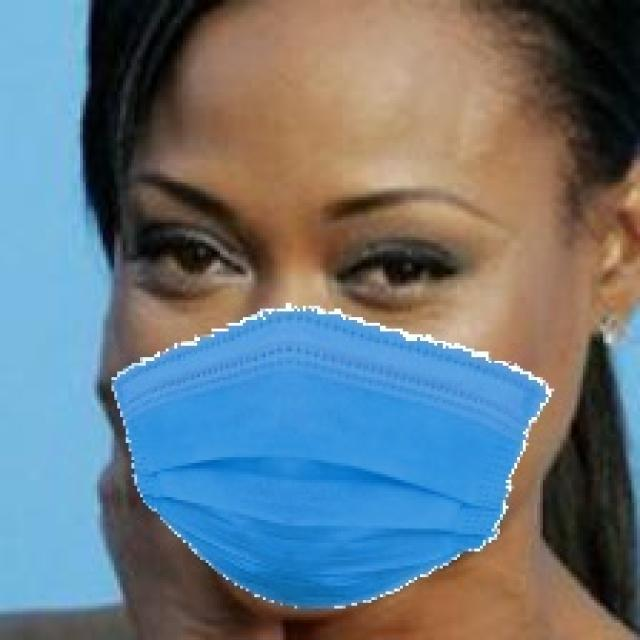mask: (111, 322, 563, 615)
